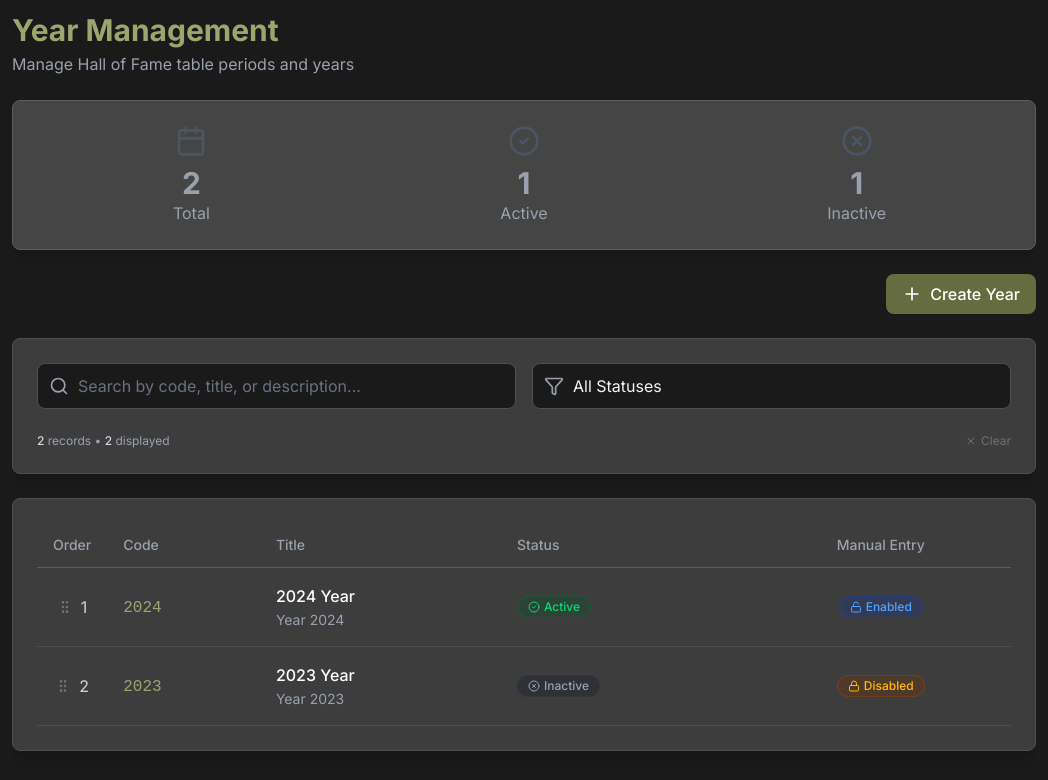
Test case: YearManagement › filters years by search term
Expected: the text "2024 Year" is shown, [276,586,355,606]
Type "2024" into the field with placeholder "Search by code, title, or description..." at (276, 386), box [37,363,516,409]
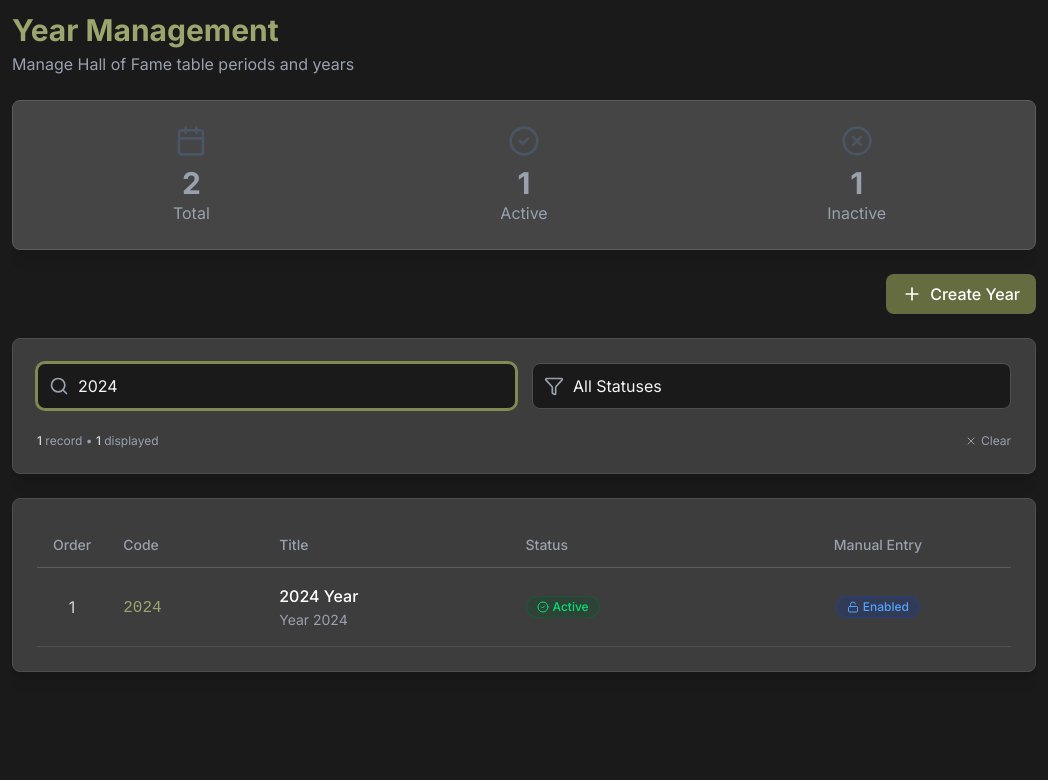
Expected: the text "2024 Year" is shown, [279,586,358,606]
Expected: the text "2023 Year" is gone
